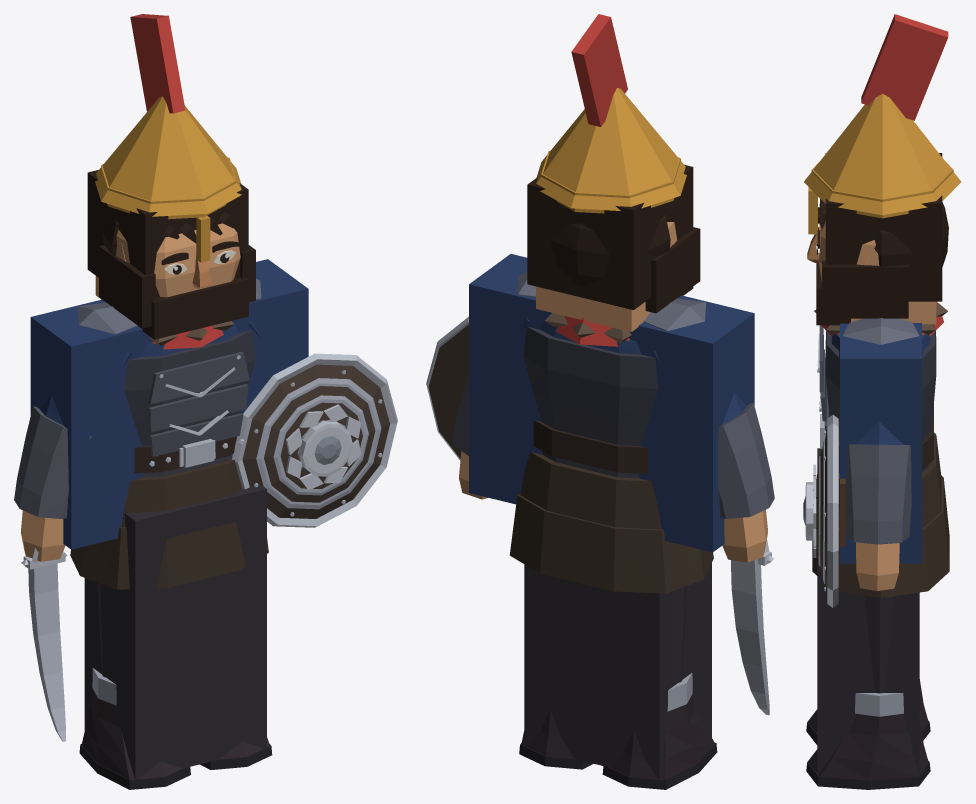
The model's file is kadro-baturay.obj.
3 renders of one model, left to right at view 1: azimuth 30°, elevation 25°; view 2: azimuth 150°, elevation 25°; view 3: azimuth 270°, elevation 25°, orthographic. The views are drawn at different scales.
Parts seen in each view (by area): view 1: kalkaneri-uzak-bacak, kalkaneri-uzak-govde, baturay-tolga, kalkaneri-kalca-plakalari-destansi-efsanevi, kalkaneri-kalkan-destansi-efsanevi, baturay-sakal, kalkaneri-gogus-plakalari-destansi-efsanevi, kalkaneri-uzak-sac, kalkaneri-kalkan-suslemeleri-destansi-efsanevi, kalkaneri-gogus-zirhi-nadir-destansi-efsanevi, kalkaneri-kol-zirhlari-destansi-efsanevi, kalkaneri-kalkan-cercedeyi-destansi-efsanevi (+14 smaller); view 2: kalkaneri-uzak-govde, kalkaneri-uzak-bacak, kalkaneri-kalca-plakalari-destansi-efsanevi, kalkaneri-gogus-zirhi-nadir-destansi-efsanevi, baturay-tolga, kalkaneri-uzak-sac, kalkaneri-kol-zirhlari-destansi-efsanevi, kalkaneri-cizmeler, baturay-tolga-tuyu, kalkaneri-kilic-destansi-efsanevi, kalkaneri-kemer, kalkaneri-sac (+11 smaller); view 3: baturay-tolga, kalkaneri-uzak-bacak, kalkaneri-uzak-govde, kalkaneri-uzak-sac, kalkaneri-kol-zirhlari-destansi-efsanevi, kalkaneri-cizmeler, baturay-tolga-tuyu, baturay-sakal, kalkaneri-kalca-plakalari-destansi-efsanevi, kalkaneri-gogus-zirhi-nadir-destansi-efsanevi, kalkaneri-kalkan-cercedeyi-destansi-efsanevi, kalkaneri-eller (+15 smaller).
Boxes of the visible parts, x1,y1,x2,y2 form: kalkaneri-uzak-bacak: (84,486,266,779); kalkaneri-uzak-govde: (30,259,308,549); baturay-tolga: (95,96,241,262); kalkaneri-kalca-plakalari-destansi-efsanevi: (70,458,268,589); kalkaneri-kalkan-destansi-efsanevi: (242,364,389,518); baturay-sakal: (99,245,255,339); kalkaneri-gogus-plakalari-destansi-efsanevi: (148,351,249,456); kalkaneri-uzak-sac: (87,170,248,297); kalkaneri-kalkan-suslemeleri-destansi-efsanevi: (254,370,382,516); kalkaneri-gogus-zirhi-nadir-destansi-efsanevi: (124,330,255,477); kalkaneri-kol-zirhlari-destansi-efsanevi: (14,406,92,518); kalkaneri-kalkan-cercedeyi-destansi-efsanevi: (232,353,397,527); kalkaneri-uzak-govde: (469,254,754,552); kalkaneri-uzak-bacak: (524,563,711,779); kalkaneri-kalca-plakalari-destansi-efsanevi: (509,452,713,593); kalkaneri-gogus-zirhi-nadir-destansi-efsanevi: (523,326,658,478); baturay-tolga: (536,88,686,213); kalkaneri-uzak-sac: (527,165,693,309); kalkaneri-kol-zirhlari-destansi-efsanevi: (452,373,774,518); kalkaneri-cizmeler: (521,695,714,779); baturay-tolga-tuyu: (571,14,627,126); kalkaneri-kilic-destansi-efsanevi: (731,559,769,715); kalkaneri-kemer: (533,420,648,473); kalkaneri-sac: (550,215,670,287); baturay-tolga: (804,94,961,234); kalkaneri-uzak-bacak: (817,448,919,774); kalkaneri-uzak-govde: (840,323,921,563); kalkaneri-uzak-sac: (825,153,942,301); kalkaneri-kol-zirhlari-destansi-efsanevi: (839,443,911,544); kalkaneri-cizmeler: (808,679,928,780); baturay-tolga-tuyu: (861,14,948,120); baturay-sakal: (816,260,908,325); kalkaneri-kalca-plakalari-destansi-efsanevi: (812,432,949,597); kalkaneri-gogus-zirhi-nadir-destansi-efsanevi: (825,331,936,472); kalkaneri-kalkan-cercedeyi-destansi-efsanevi: (827,415,838,607); kalkaneri-eller: (856,542,899,590).
Size of the model in its own units: 26.3 by 51.33 by 10.02.
